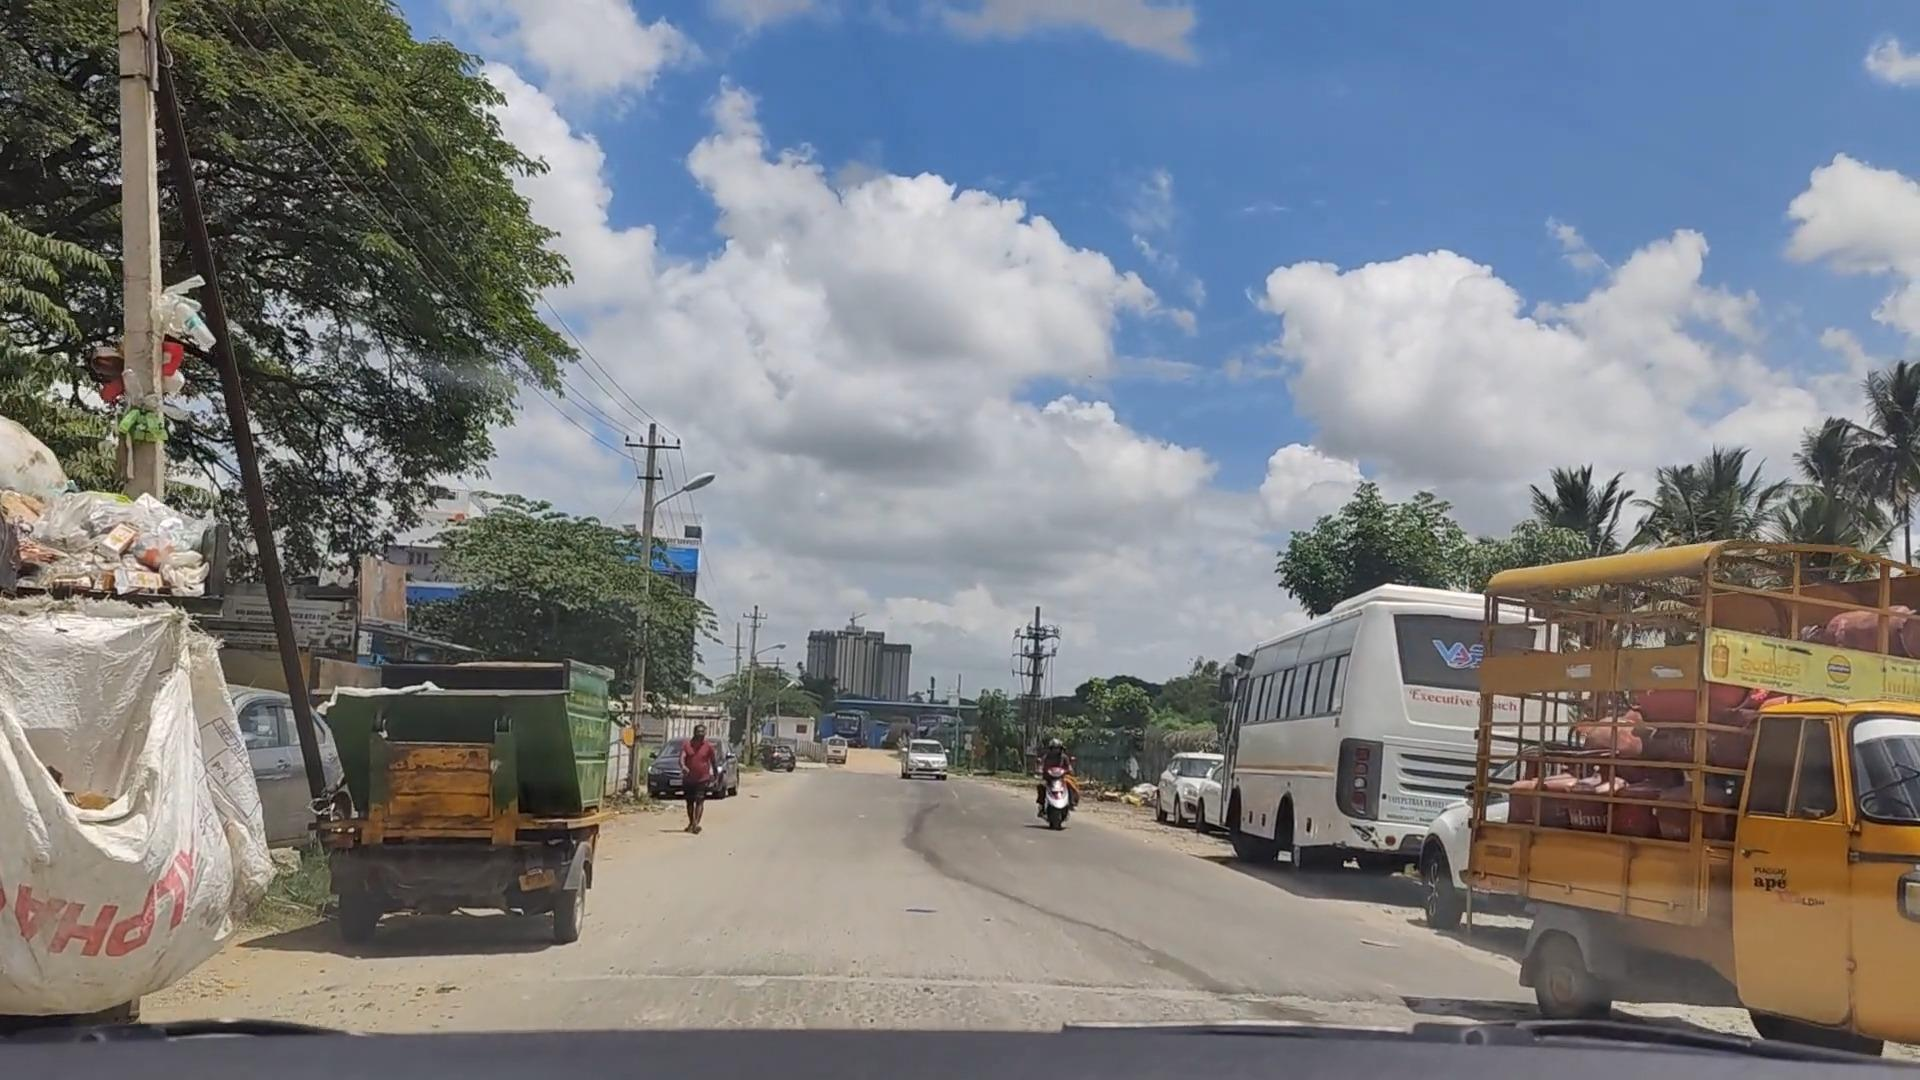HMV: (1468, 566, 1920, 1080), (328, 666, 640, 956)
RoadDamages: (686, 976, 1439, 1026)
